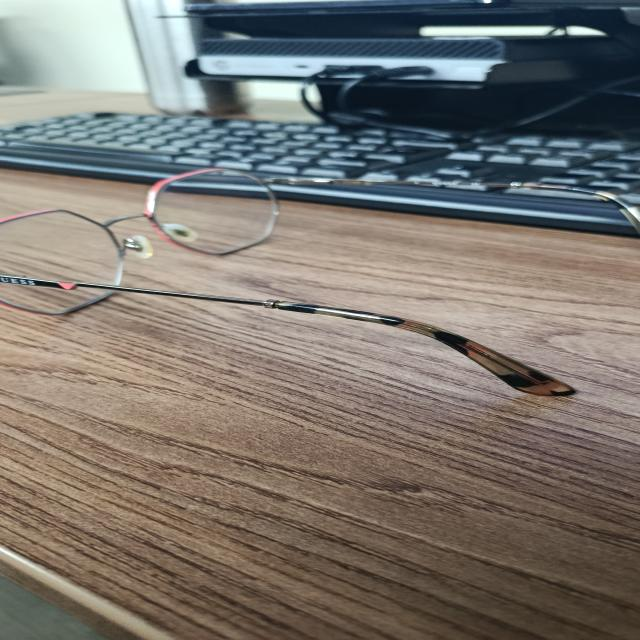sem_oculos: (0, 168, 574, 396), (388, 178, 640, 233)
